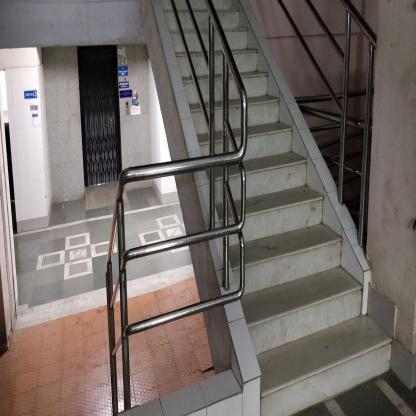stairs: (261, 243, 359, 407)
